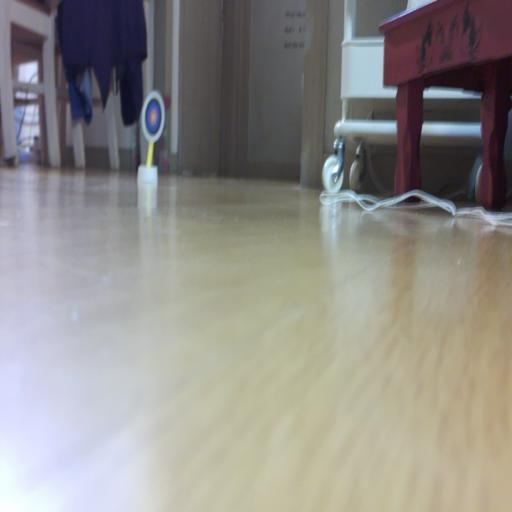target: (141, 91, 164, 144)
